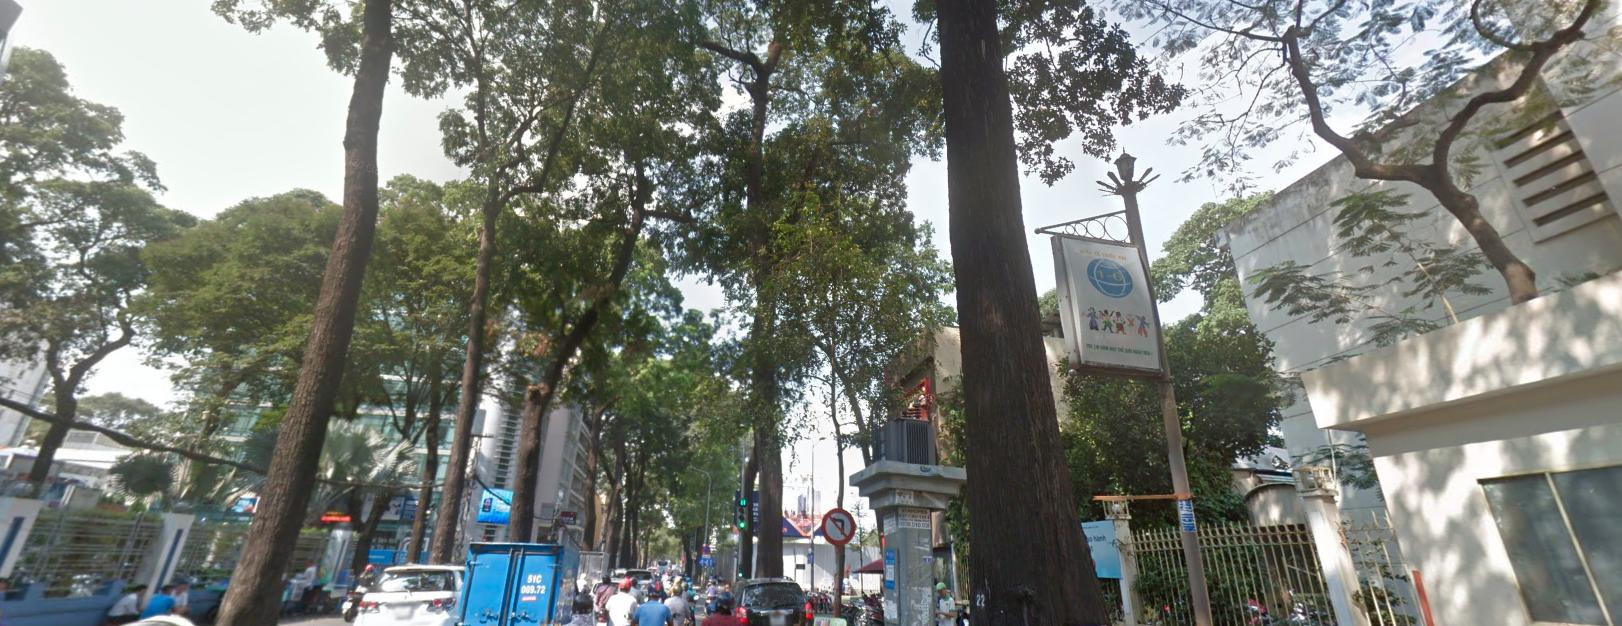Cam dung va do: (702, 545, 710, 553)
Cam re: (821, 506, 855, 544)
